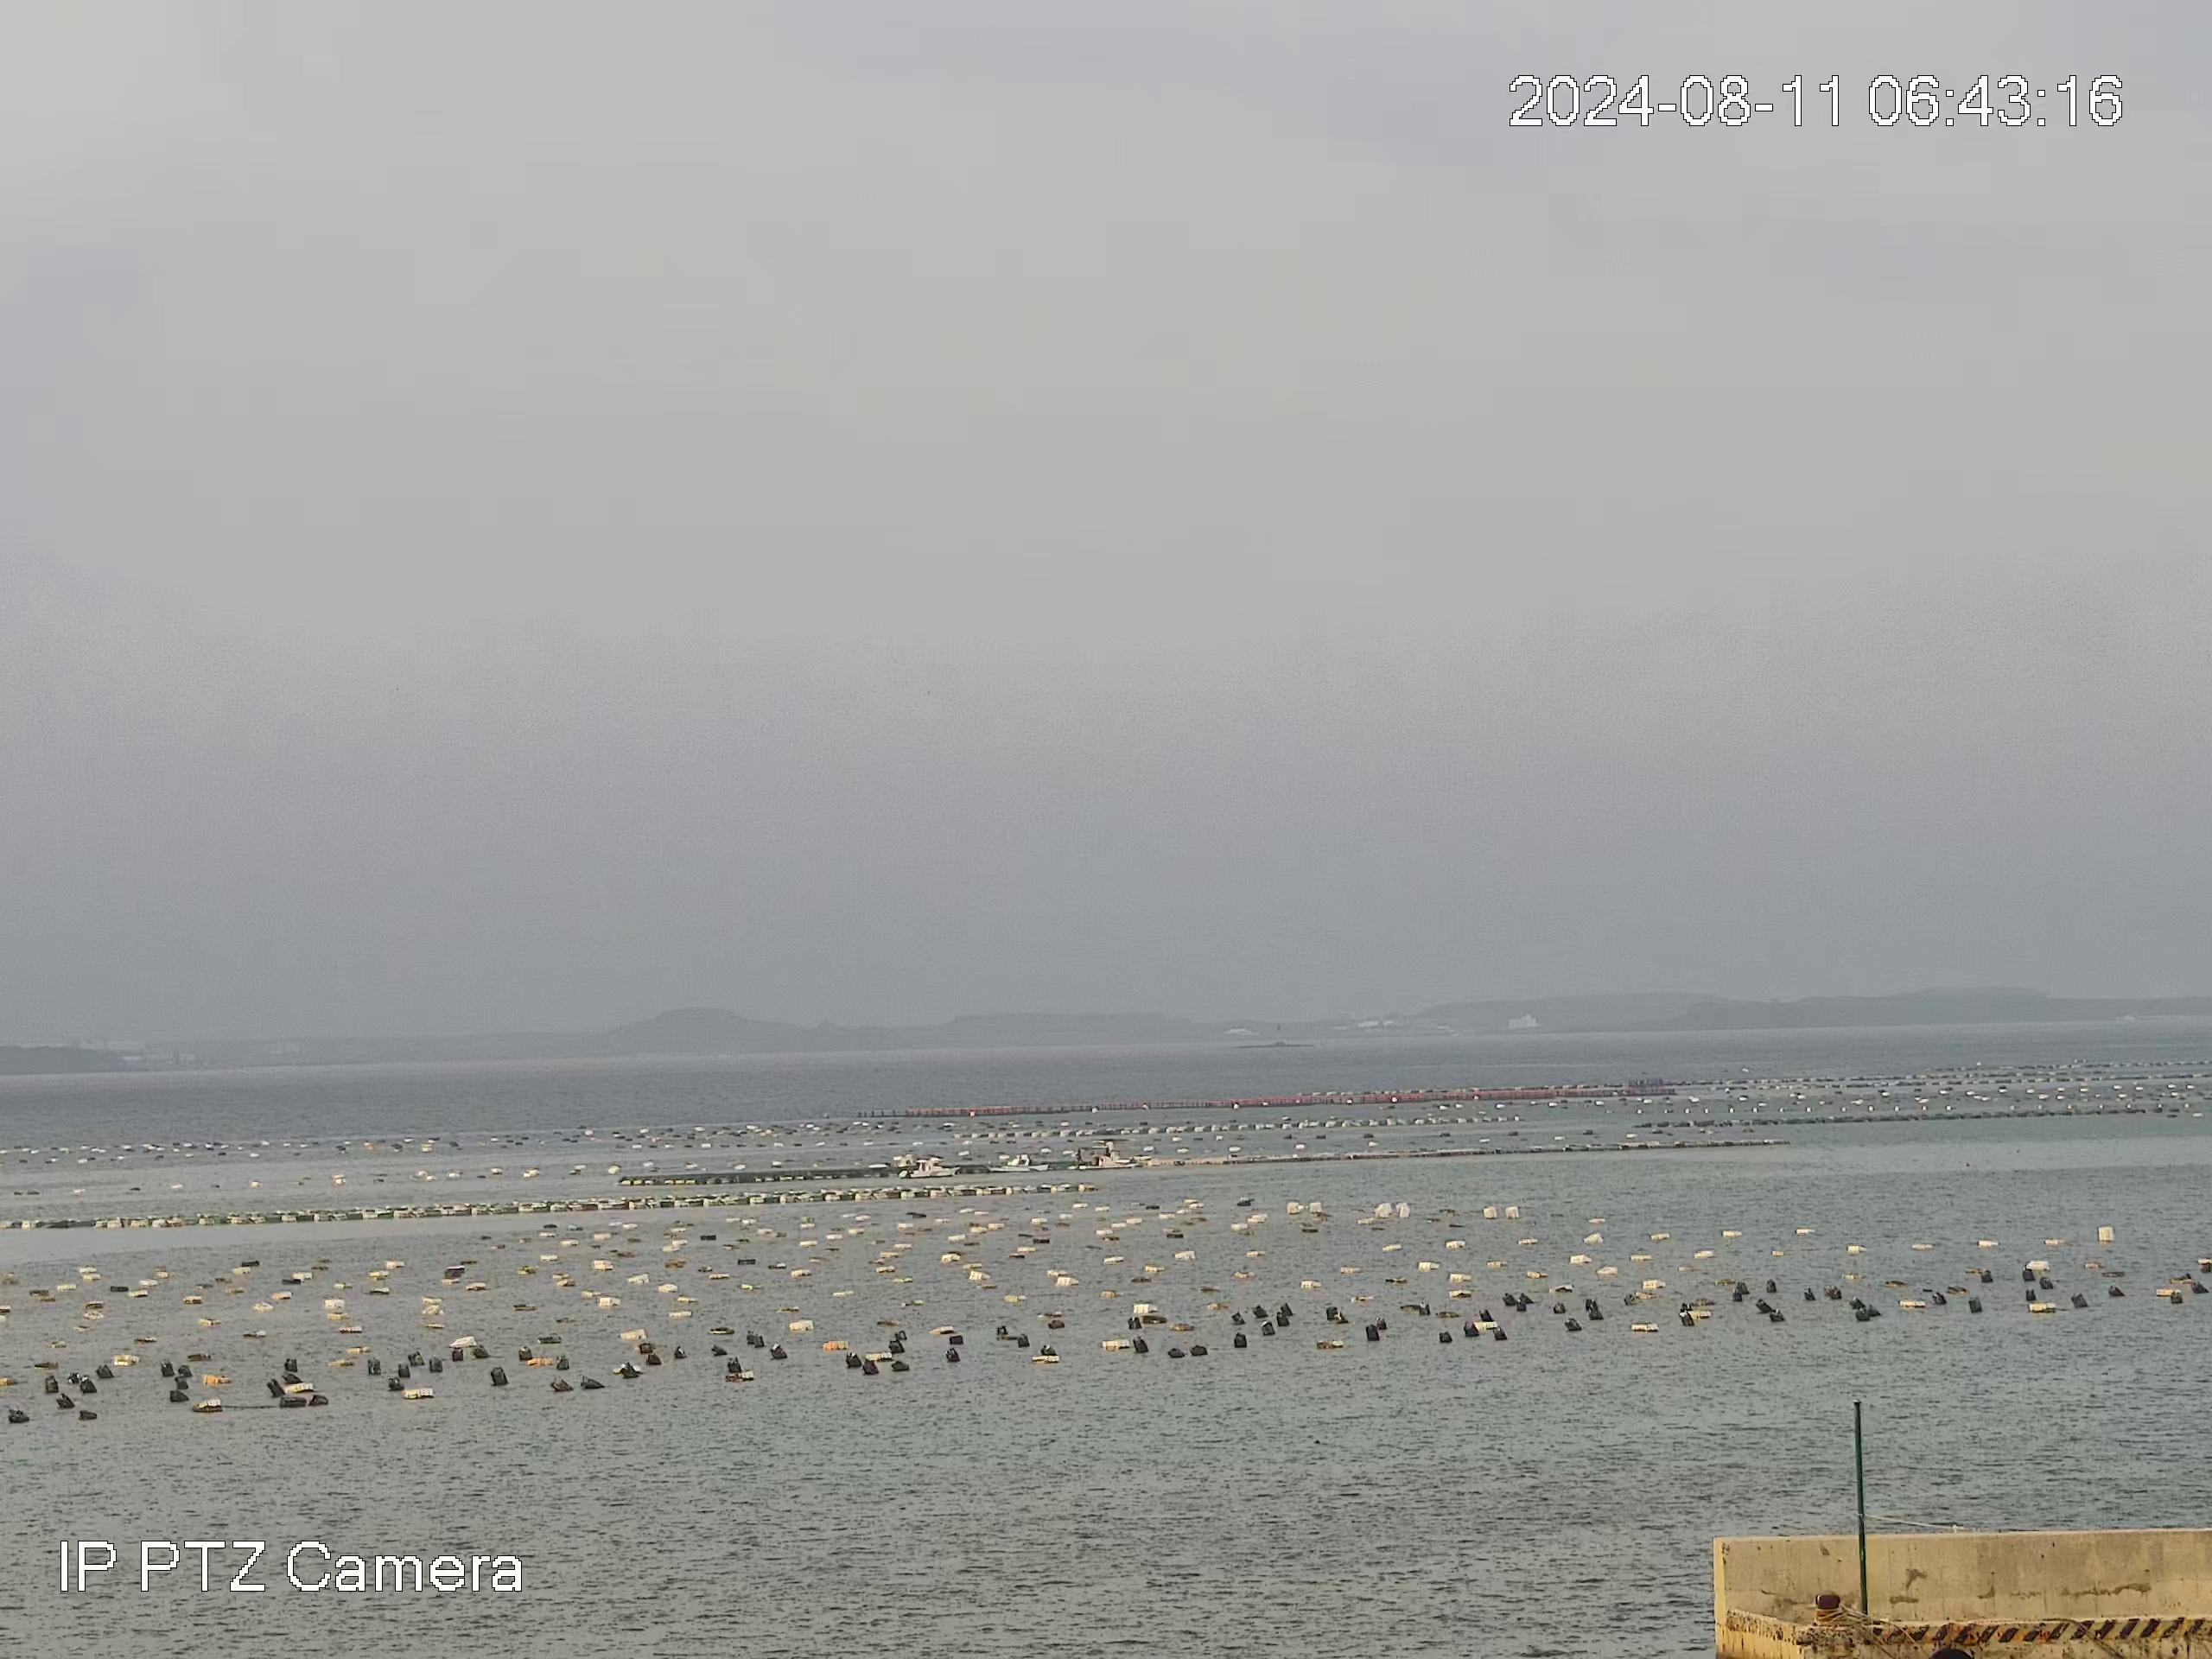boat: (895, 1154, 963, 1180), (982, 1154, 1050, 1173), (1066, 1154, 1118, 1171)
